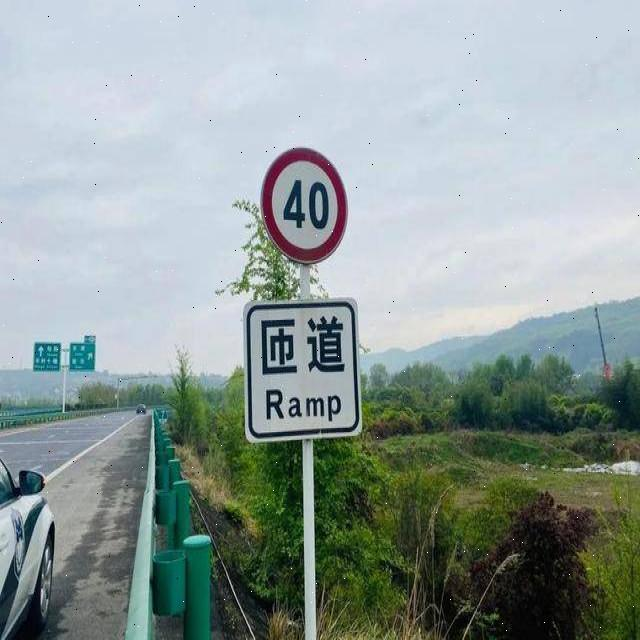speed limit 40: (260, 145, 348, 264)
